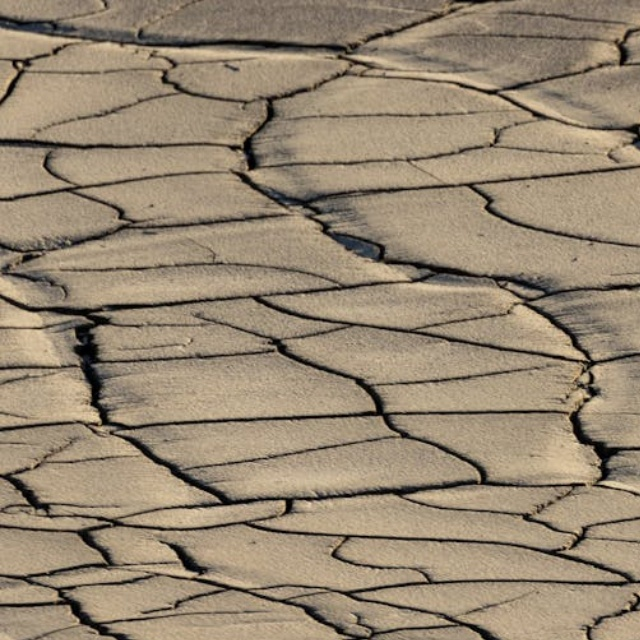细微裂纹: (37, 163, 164, 590)
网状裂隙: (0, 239, 640, 640)
